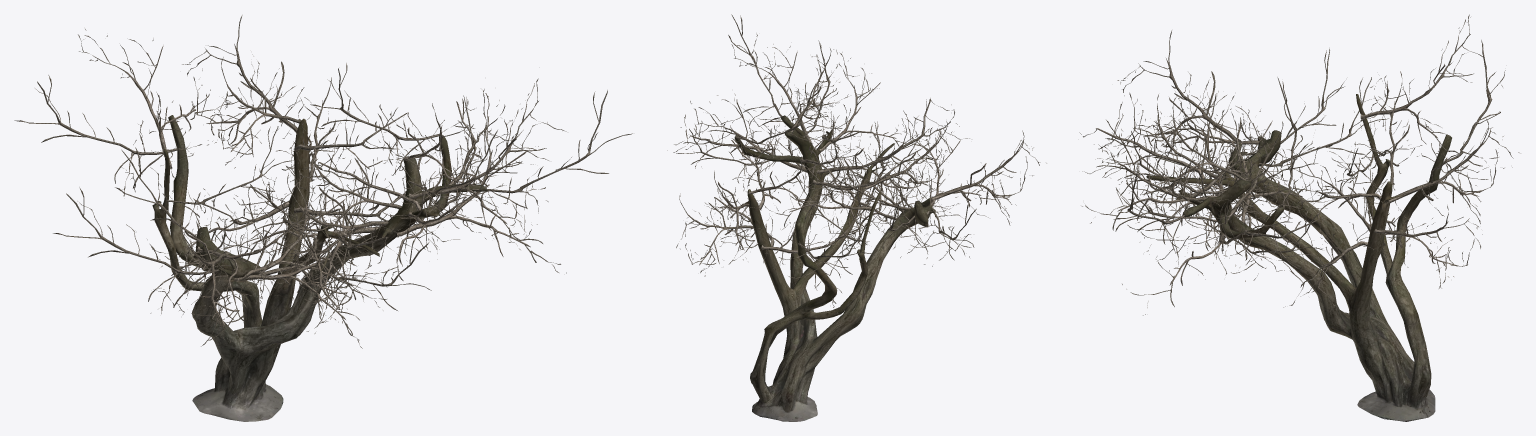
The model's file is island_tree_02_trunk.glb.
3 views of the same model, side by side, from view 1: azimuth 30°, elevation 25°; view 2: azimuth 150°, elevation 25°; view 3: azimuth 270°, elevation 25° (orthographic). The views are drawn at different scales.
Parts seen in each view (by area): view 1: island_tree_02_LOD0; view 2: island_tree_02_LOD0; view 3: island_tree_02_LOD0.
Part boxes in pixels (left/top/right/bottom): island_tree_02_LOD0: left=14, top=15, right=632, bottom=421; island_tree_02_LOD0: left=667, top=14, right=1046, bottom=421; island_tree_02_LOD0: left=1079, top=14, right=1520, bottom=421.
Bounding box in the file's own units: 4.21 × 3.36 × 3.95.
2 materials, 2 textured.
